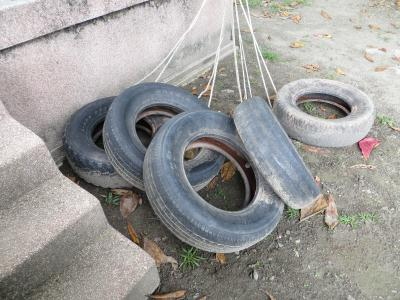tire: (137, 106, 290, 257), (98, 78, 227, 196), (226, 90, 325, 212), (271, 75, 377, 151)
